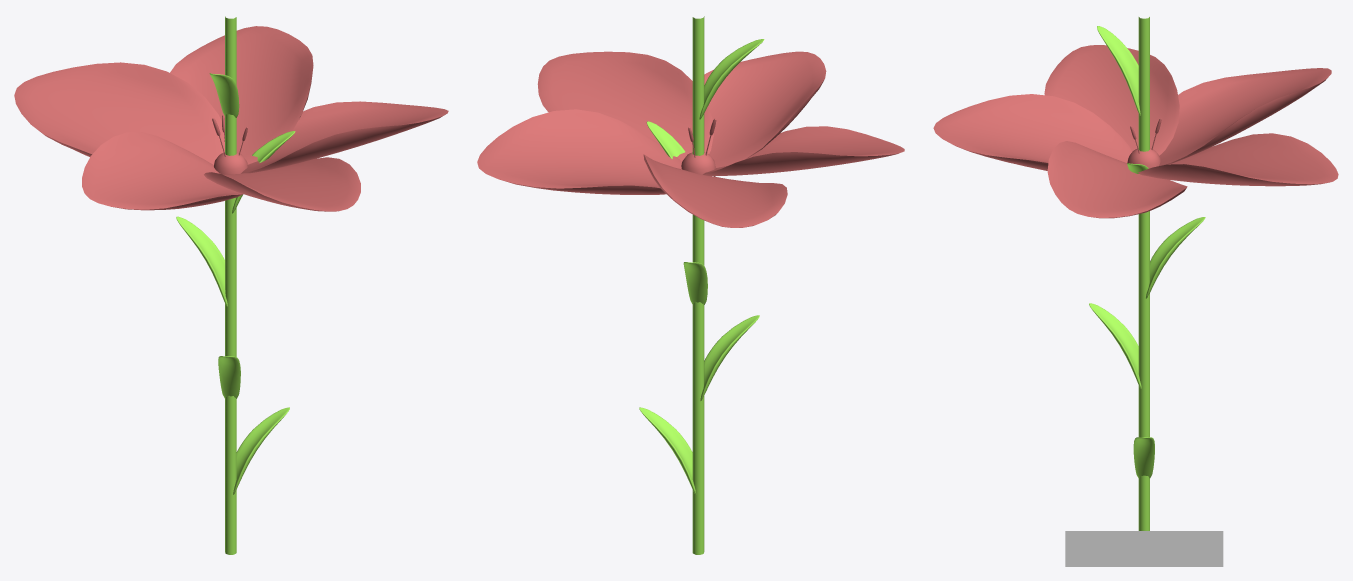
The model's file is flower.glb.
The picture shows the model from 3 angles, left to right: view 1: azimuth 30°, elevation 25°; view 2: azimuth 150°, elevation 25°; view 3: azimuth 270°, elevation 25°; orthographic projection. The views are drawn at different scales.
Visible parts, largest first — view 1: flower, tige; view 2: flower, tige; view 3: flower, tige, base.
Part boxes in pixels (left/top/right/bottom): flower: left=14, top=26, right=448, bottom=211; tige: left=176, top=16, right=295, bottom=554; flower: left=477, top=51, right=904, bottom=227; tige: left=639, top=16, right=764, bottom=554; flower: left=933, top=45, right=1338, bottom=218; tige: left=1089, top=17, right=1205, bottom=530; base: left=1065, top=531, right=1223, bottom=566.
Bounding box in the file's own units: 0.6995 × 1 × 0.706.
